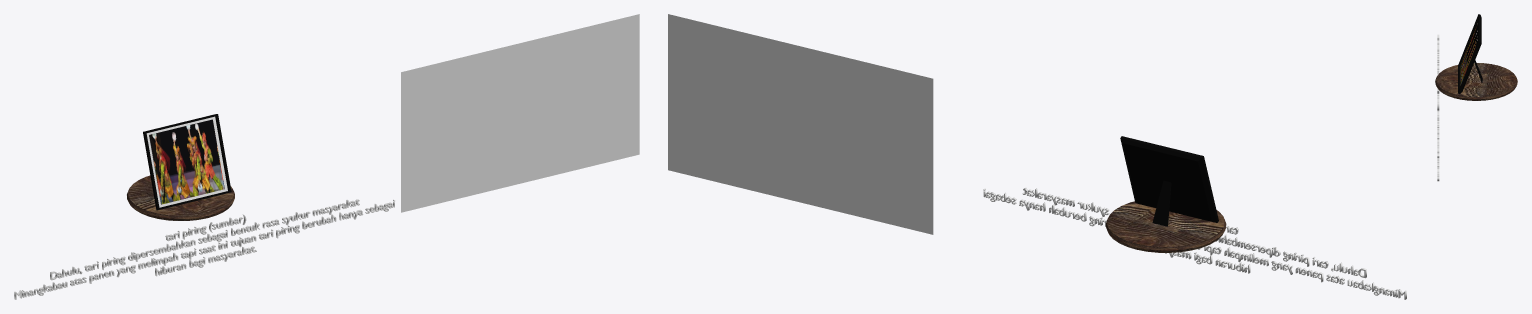
The model's file is 4. Tari Piring (Sumatera Barat).fbx.
The picture shows the model from 3 angles, left to right: view 1: azimuth 30°, elevation 25°; view 2: azimuth 150°, elevation 25°; view 3: azimuth 270°, elevation 25°; orthographic projection. The views are drawn at different scales.
Visible parts, largest first — view 1: Plane, Cube.028, Text.001; view 2: Plane, Cube.028, Text.001; view 3: Cube.028, Text.001.
Boxes of the visible parts, <box> form: Plane: <box>401,14,639,212</box>; Cube.028: <box>127,114,234,220</box>; Text.001: <box>14,199,394,299</box>; Plane: <box>668,14,933,234</box>; Cube.028: <box>1106,136,1226,252</box>; Text.001: <box>983,188,1406,299</box>; Cube.028: <box>1435,14,1517,100</box>; Text.001: <box>1437,34,1439,181</box>.
Bounding box in the file's own units: 8637 × 1800 × 1260.
6 materials, 3 textured.
